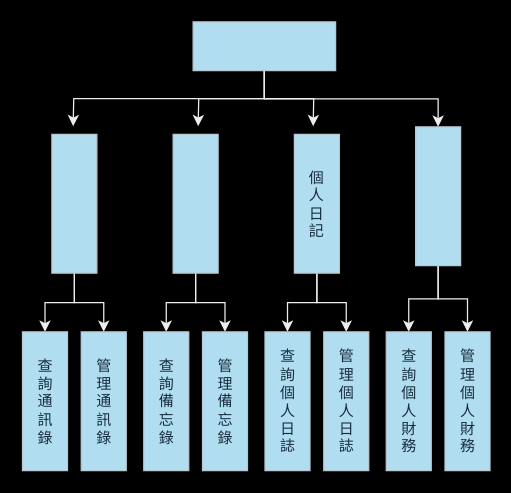
Some shapes in this 511 by 493 pixel diagram are drawn without their labels. The shapes that lost their labels are listed below. From the top down, each one's centre as x and y in pixels, then its label:
the point at 264,46: 個人訊息管理系統
the point at 74,203: 通 訊 錄
the point at 195,203: 備 忘 錄
the point at 437,196: 個 人 財 務
